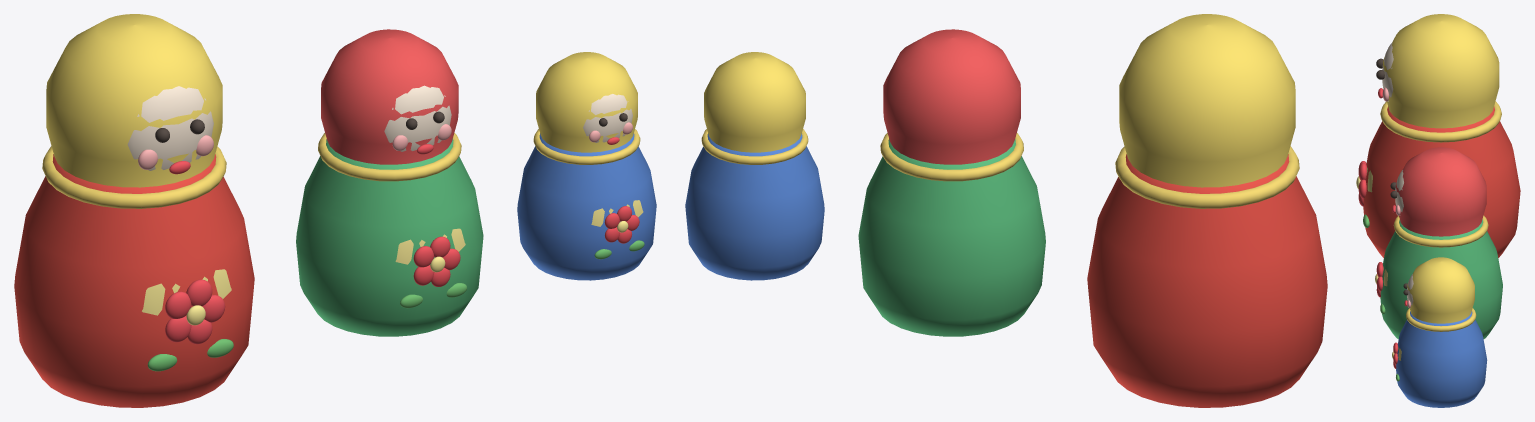
The model's file is shelf_matryoshka.glb.
3 views of the same model, side by side, from view 1: azimuth 30°, elevation 25°; view 2: azimuth 150°, elevation 25°; view 3: azimuth 270°, elevation 25° (orthographic). The views are drawn at different scales.
Parts seen in each view (by area): view 1: shelf_matryoshka; view 2: shelf_matryoshka; view 3: shelf_matryoshka.
Boxes of the visible parts, left/top/right/bottom form: shelf_matryoshka: left=14, top=14, right=656, bottom=407; shelf_matryoshka: left=685, top=14, right=1327, bottom=407; shelf_matryoshka: left=1356, top=14, right=1520, bottom=407.
Bounding box in the file's own units: 0.2661 × 0.141 × 0.093.
